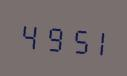five: (62, 19, 83, 57)
four: (18, 16, 39, 53)
nine: (40, 18, 61, 55)
one: (84, 21, 105, 59)
